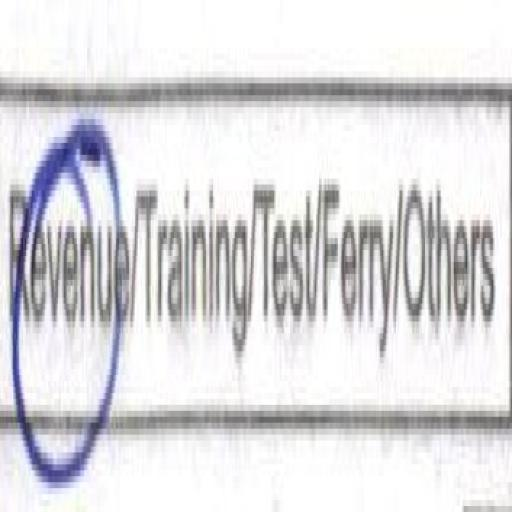check: (0, 46, 132, 495)
